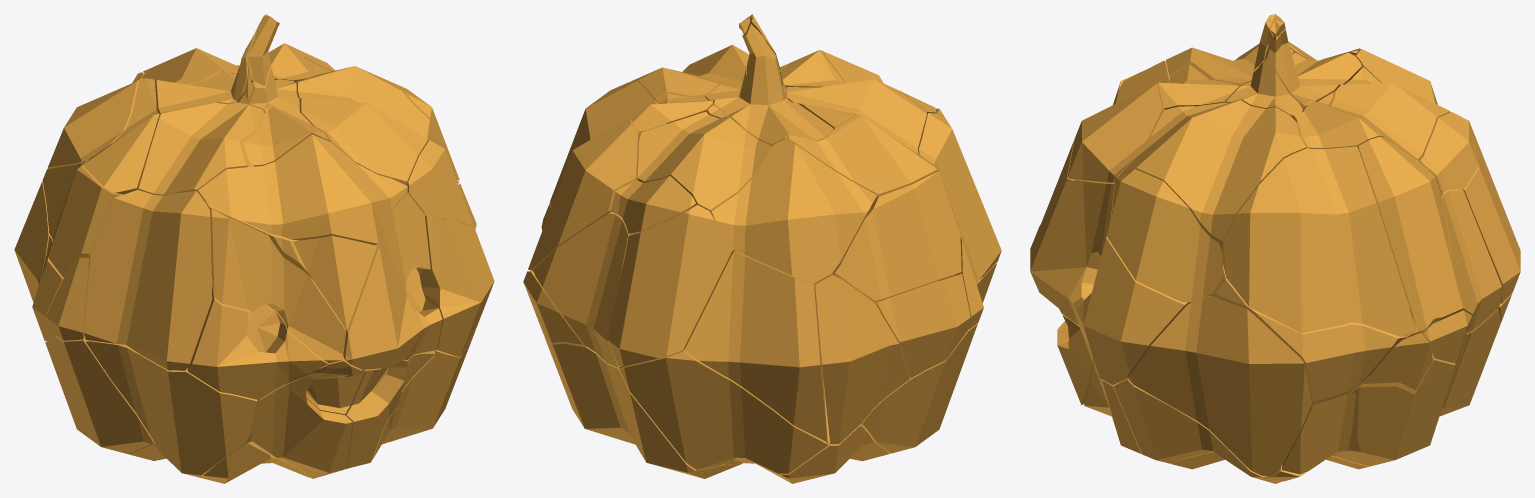
The model's file is pumpkin-carved-b broken.fbx.
The picture shows the model from 3 angles, left to right: view 1: azimuth 30°, elevation 25°; view 2: azimuth 150°, elevation 25°; view 3: azimuth 270°, elevation 25°; orthographic projection.
Visible parts, largest first — view 1: pumpkin-carved-b_cell.058, pumpkin-carved-b_cell.021, pumpkin-carved-b_cell.061, pumpkin-carved-b_cell.040, pumpkin-carved-b_cell.056, pumpkin-carved-b_cell, pumpkin-carved-b_cell.075, pumpkin-carved-b_cell.010, pumpkin-carved-b_cell.078, pumpkin-carved-b_cell.022, pumpkin-carved-b_cell.027, pumpkin-carved-b_cell.013 (+20 smaller); view 2: pumpkin-carved-b_cell.057, pumpkin-carved-b_cell.031, pumpkin-carved-b_cell.054, pumpkin-carved-b_cell.069, pumpkin-carved-b_cell.013, pumpkin-carved-b_cell.035, pumpkin-carved-b_cell.029, pumpkin-carved-b_cell.048, pumpkin-carved-b_cell.086, pumpkin-carved-b_cell.070, pumpkin-carved-b_cell.012, pumpkin-carved-b_cell.051 (+15 smaller); view 3: pumpkin-carved-b_cell.081, pumpkin-carved-b_cell.032, pumpkin-carved-b_cell.056, pumpkin-carved-b_cell.030, pumpkin-carved-b_cell.086, pumpkin-carved-b_cell.040, pumpkin-carved-b_cell.078, pumpkin-carved-b_cell.085, pumpkin-carved-b_cell.036, pumpkin-carved-b_cell.021, pumpkin-carved-b_cell.048, pumpkin-carved-b_cell.029 (+16 smaller).
Boxes of the visible parts, <box> form: pumpkin-carved-b_cell.058: <box>84,190,212,370</box>; pumpkin-carved-b_cell.021: <box>198,134,407,244</box>; pumpkin-carved-b_cell.061: <box>85,340,259,475</box>; pumpkin-carved-b_cell.040: <box>343,193,442,369</box>; pumpkin-carved-b_cell.056: <box>295,66,434,185</box>; pumpkin-carved-b_cell: <box>210,208,346,362</box>; pumpkin-carved-b_cell.075: <box>187,277,327,399</box>; pumpkin-carved-b_cell.010: <box>138,102,264,201</box>; pumpkin-carved-b_cell.078: <box>419,215,494,357</box>; pumpkin-carved-b_cell.022: <box>250,373,352,474</box>; pumpkin-carved-b_cell.027: <box>45,336,156,453</box>; pumpkin-carved-b_cell.013: <box>42,159,122,277</box>; pumpkin-carved-b_cell.057: <box>684,251,827,442</box>; pumpkin-carved-b_cell.031: <box>711,139,877,283</box>; pumpkin-carved-b_cell.054: <box>619,349,827,473</box>; pumpkin-carved-b_cell.069: <box>607,205,734,366</box>; pumpkin-carved-b_cell.013: <box>814,169,961,302</box>; pumpkin-carved-b_cell.035: <box>815,275,909,444</box>; pumpkin-carved-b_cell.029: <box>637,112,771,216</box>; pumpkin-carved-b_cell.048: <box>533,212,633,367</box>; pumpkin-carved-b_cell.086: <box>528,117,643,271</box>; pumpkin-carved-b_cell.070: <box>875,274,970,378</box>; pumpkin-carved-b_cell.012: <box>786,115,937,194</box>; pumpkin-carved-b_cell.051: <box>713,24,833,146</box>; pumpkin-carved-b_cell.081: <box>1222,146,1416,336</box>; pumpkin-carved-b_cell.032: <box>1128,295,1311,476</box>; pumpkin-carved-b_cell.056: <box>1120,100,1309,253</box>; pumpkin-carved-b_cell.030: <box>1106,169,1223,302</box>; pumpkin-carved-b_cell.086: <box>1358,136,1451,331</box>; pumpkin-carved-b_cell.040: <box>1030,180,1114,336</box>; pumpkin-carved-b_cell.078: <box>1075,218,1190,384</box>; pumpkin-carved-b_cell.085: <box>1334,332,1470,466</box>; pumpkin-carved-b_cell.036: <box>1206,265,1406,407</box>; pumpkin-carved-b_cell.021: <box>1067,60,1169,183</box>; pumpkin-carved-b_cell.048: <box>1409,189,1501,334</box>; pumpkin-carved-b_cell.029: <box>1330,67,1450,161</box>.
Size of the model in its own units: 61.49 by 58.86 by 61.49.
